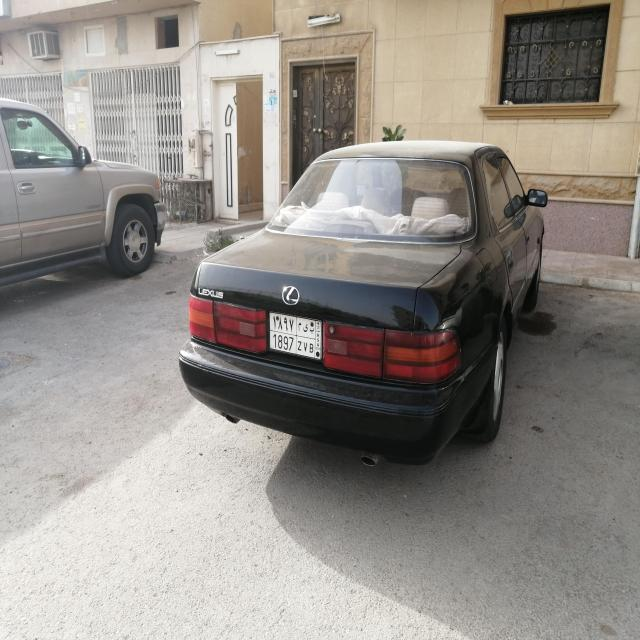license_plate: (267, 307, 323, 363)
